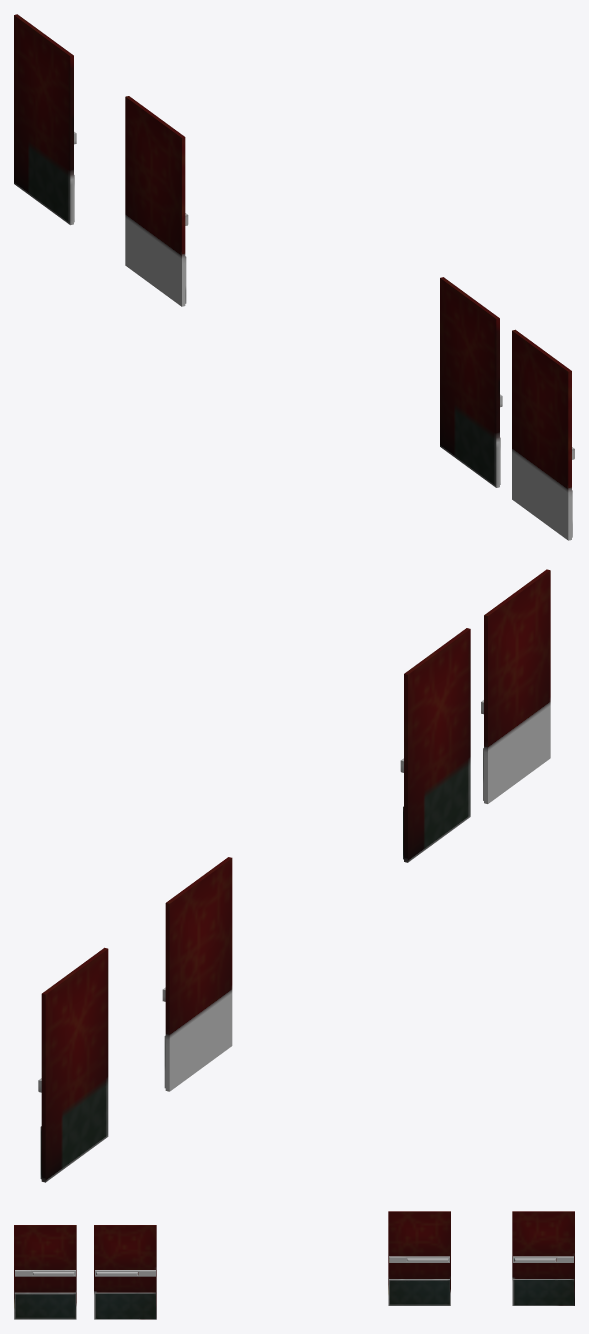
The model's file is Doors.fbx.
The picture shows the model from 3 angles, top to bottom: view 1: azimuth 30°, elevation 25°; view 2: azimuth 150°, elevation 25°; view 3: azimuth 270°, elevation 25°; orthographic projection. The views are drawn at different scales.
Visible parts, largest first — view 1: Glass_Ceiling.001; view 2: Glass_Ceiling.001; view 3: Glass_Ceiling.001.
Part boxes in pixels (x1,y1,x2,y2): Glass_Ceiling.001: (14, 14, 574, 540); Glass_Ceiling.001: (38, 569, 550, 1182); Glass_Ceiling.001: (14, 1211, 574, 1319).
Size of the model in its own units: 124 by 338 by 1827.
